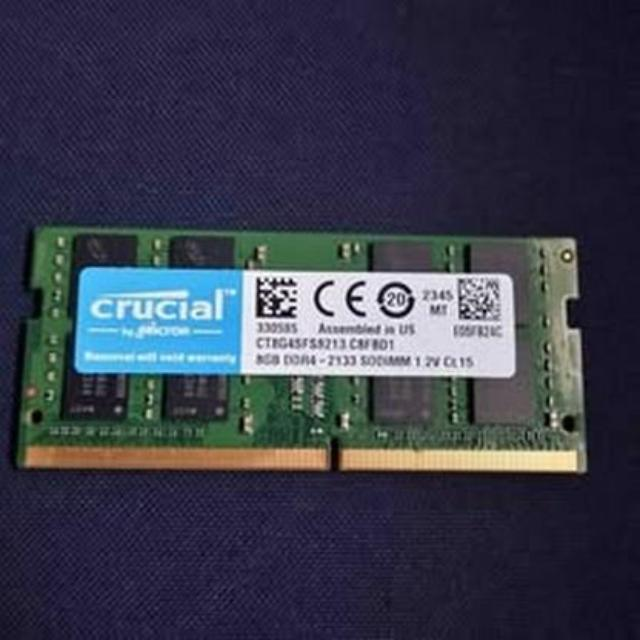RAM: (4, 224, 590, 478)
